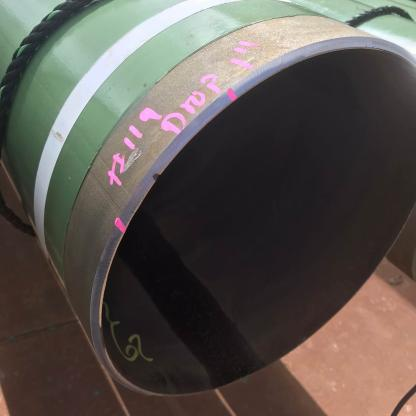Bevel: (139, 162, 170, 184)
